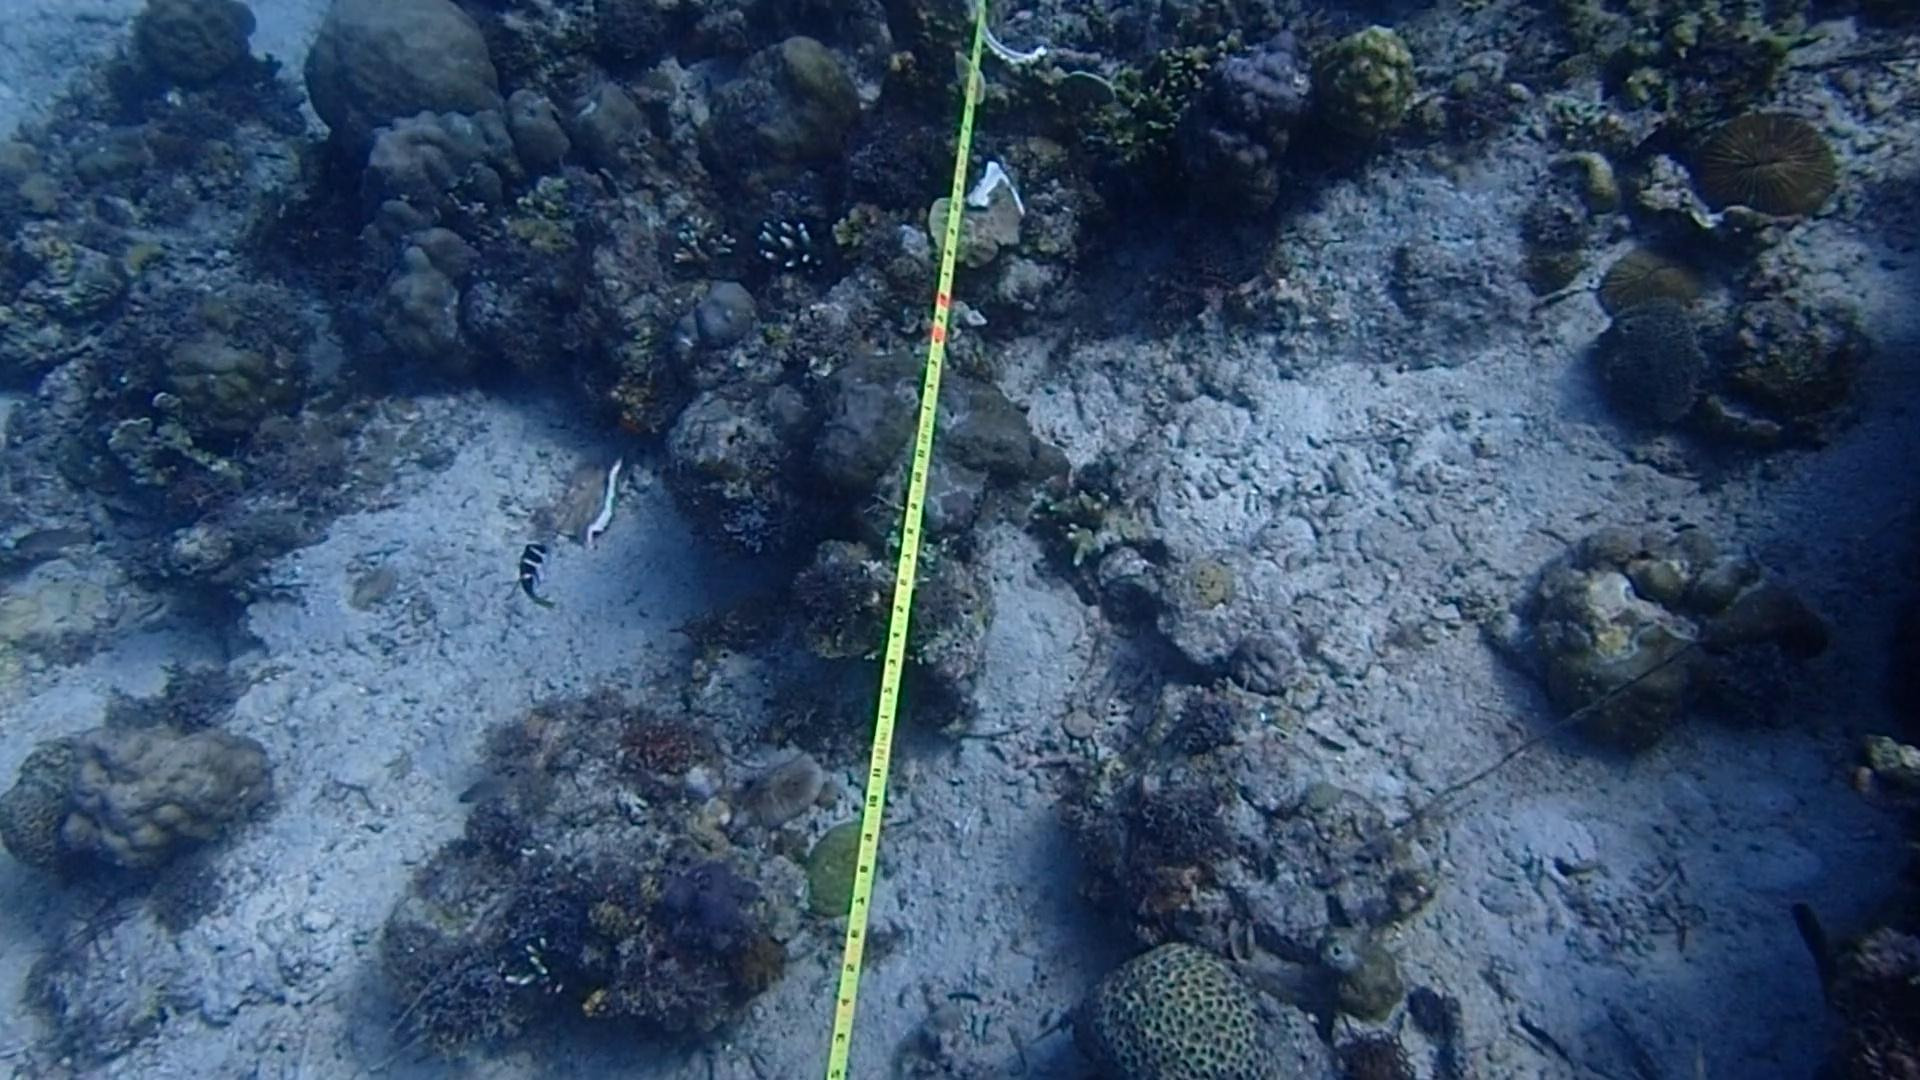Striped Fish: (512, 535, 559, 605)
